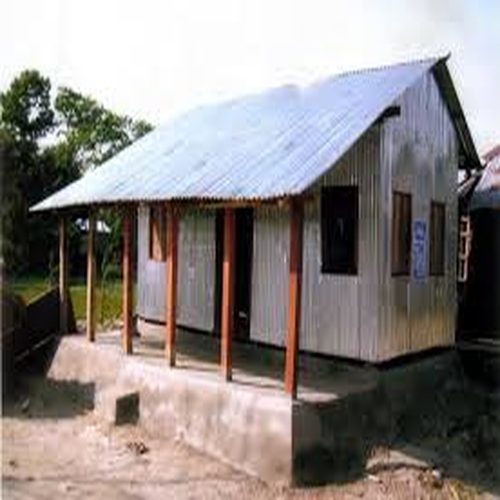Tin-shade House: (36, 52, 467, 426)
